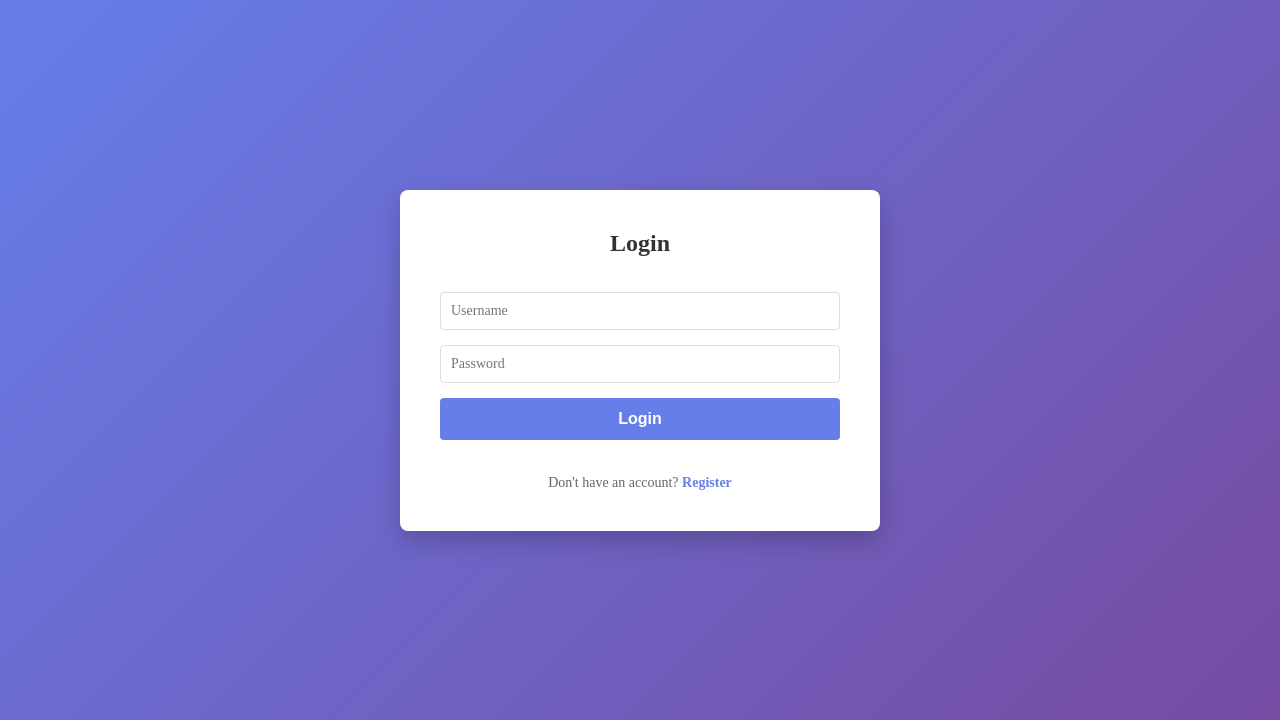
Test: Login E2E Tests › Should show validation errors when fields empty
Click the button with test id "login-button".
click(640, 419)  # box [440,398,840,440]
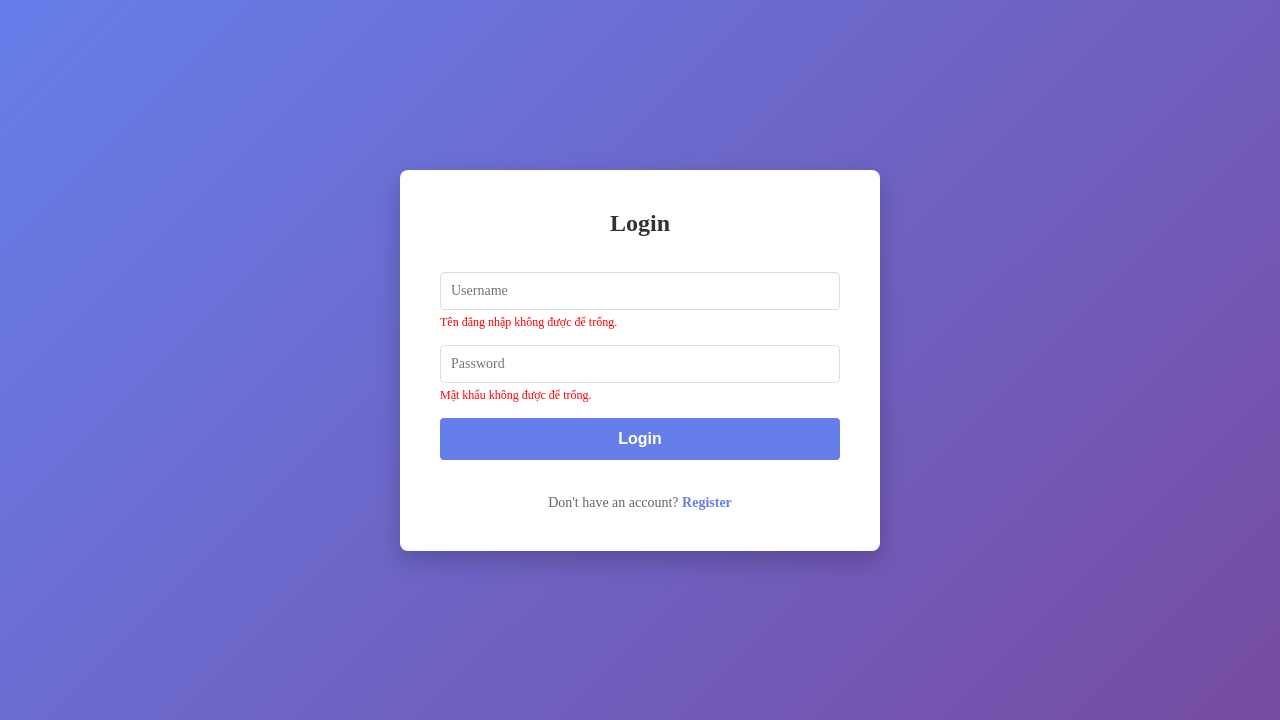
Expected: the text "Tên đăng nhập không được để trống." is shown, [440,314,617,328]
Expected: the text "Mật khẩu không được để trống." is shown, [440,388,592,402]
